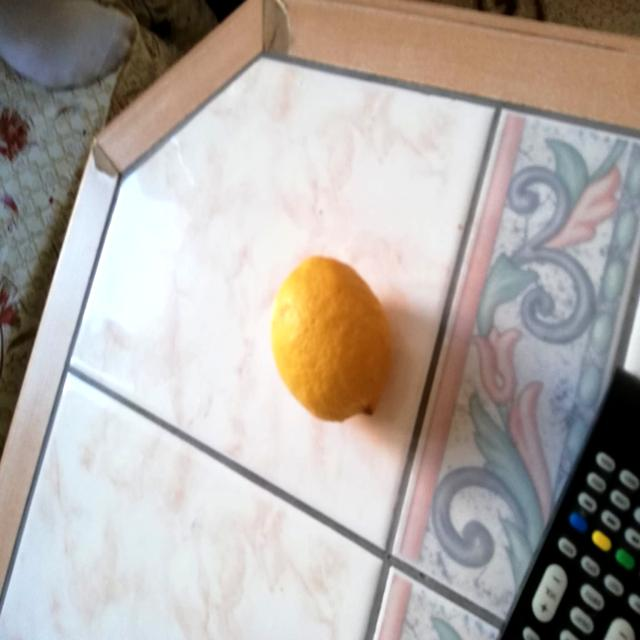lemon: (266, 242, 400, 433)
